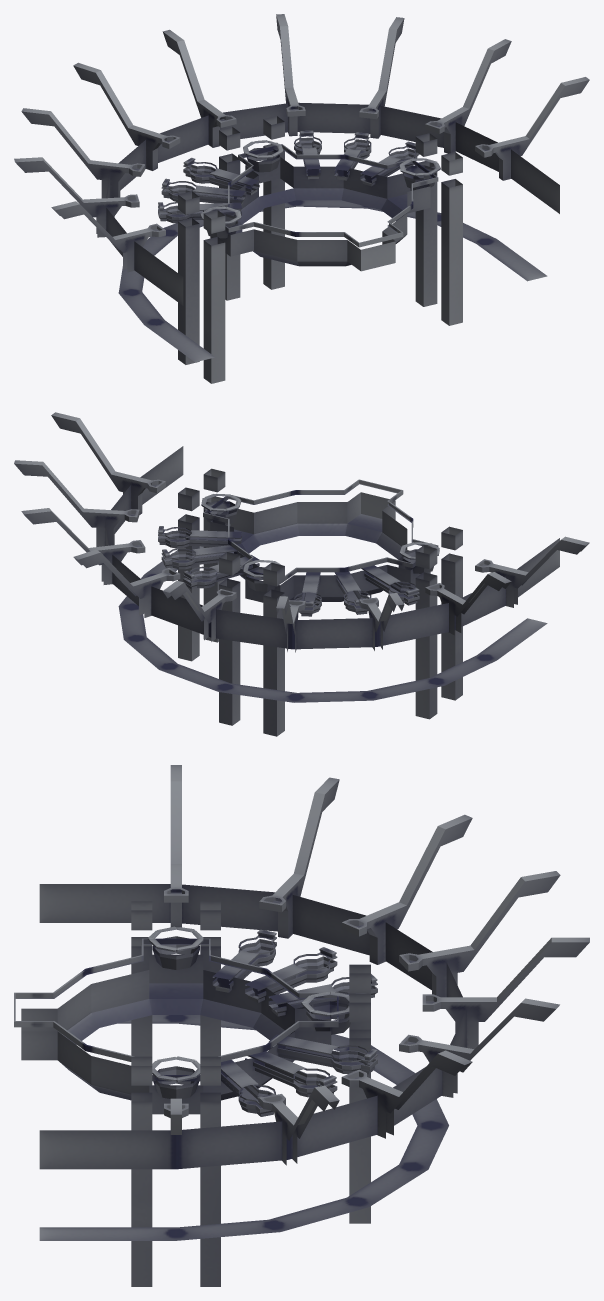
The model's file is Wall_02.FBX.
The picture shows the model from 3 angles, top to bottom: view 1: azimuth 30°, elevation 25°; view 2: azimuth 150°, elevation 25°; view 3: azimuth 270°, elevation 25°; orthographic projection. The views are drawn at different scales.
Visible parts, largest first — view 1: Wall_02; view 2: Wall_02; view 3: Wall_02.
Part boxes in pixels (bbox=[...]): Wall_02: bbox=[14, 14, 589, 383]; Wall_02: bbox=[14, 412, 589, 736]; Wall_02: bbox=[14, 765, 589, 1286].
Bounding box in the file's own units: 72.1 × 25.45 × 50.19.
